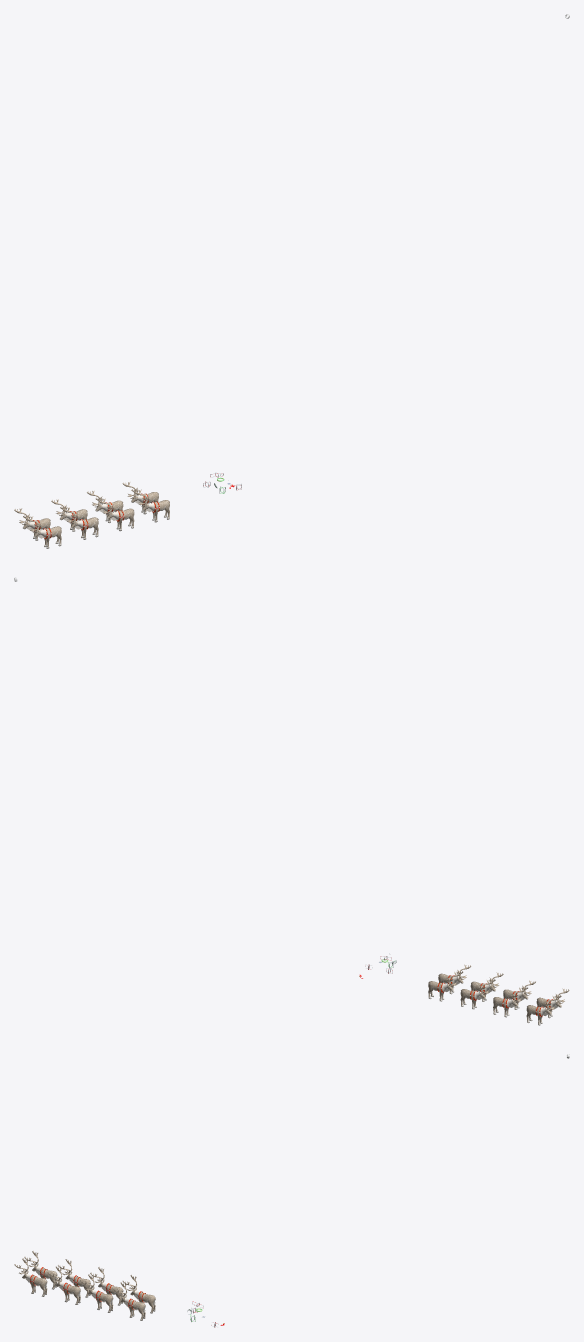
Rendered from santa2.glb.
The picture shows the model from 3 angles, top to bottom: view 1: azimuth 30°, elevation 25°; view 2: azimuth 150°, elevation 25°; view 3: azimuth 330°, elevation 25°; orthographic projection. The views are drawn at different scales.
Size of the model in its own units: 1774 by 1102 by 212.
20 materials, 1 textured.
